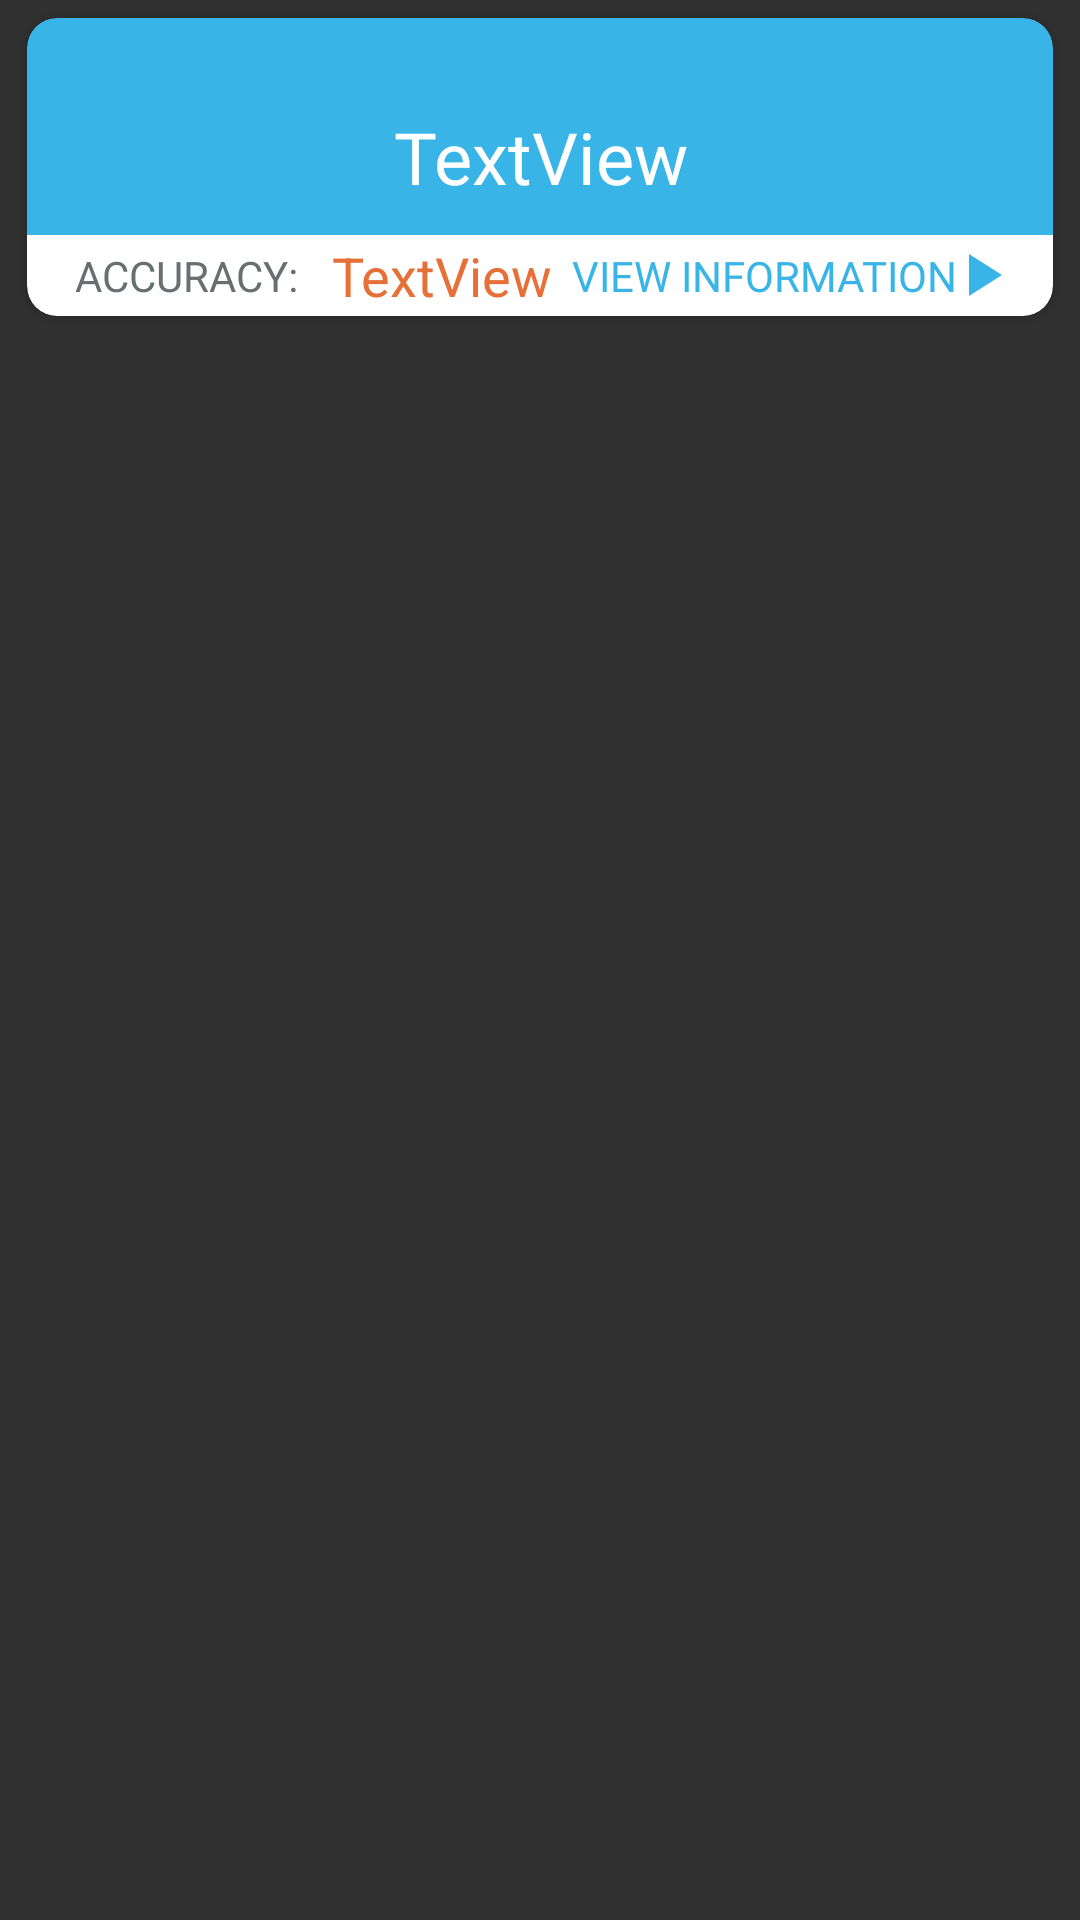

Icon bounding boxes for this 1080 × 1920 phone screenshot, format [x1,y1,x2,y2]:
right arrow: [969,254,1002,296]
